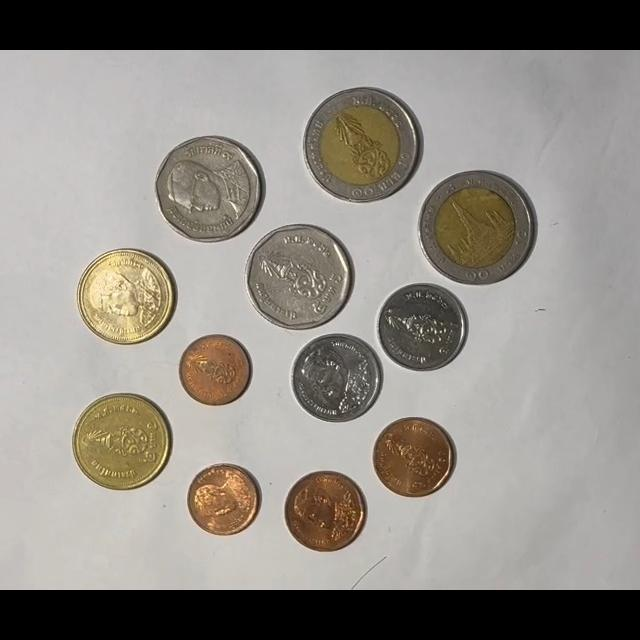1-baht: (290, 333, 382, 423), (376, 283, 467, 372)
10-baht: (303, 87, 422, 205), (418, 171, 536, 286)
2-baht: (72, 393, 171, 490), (77, 249, 173, 346)
25-satang: (187, 463, 262, 537), (178, 334, 251, 406)
5-baht: (155, 136, 265, 243), (245, 224, 353, 332)
50-satang: (284, 471, 367, 553), (372, 417, 455, 498)
